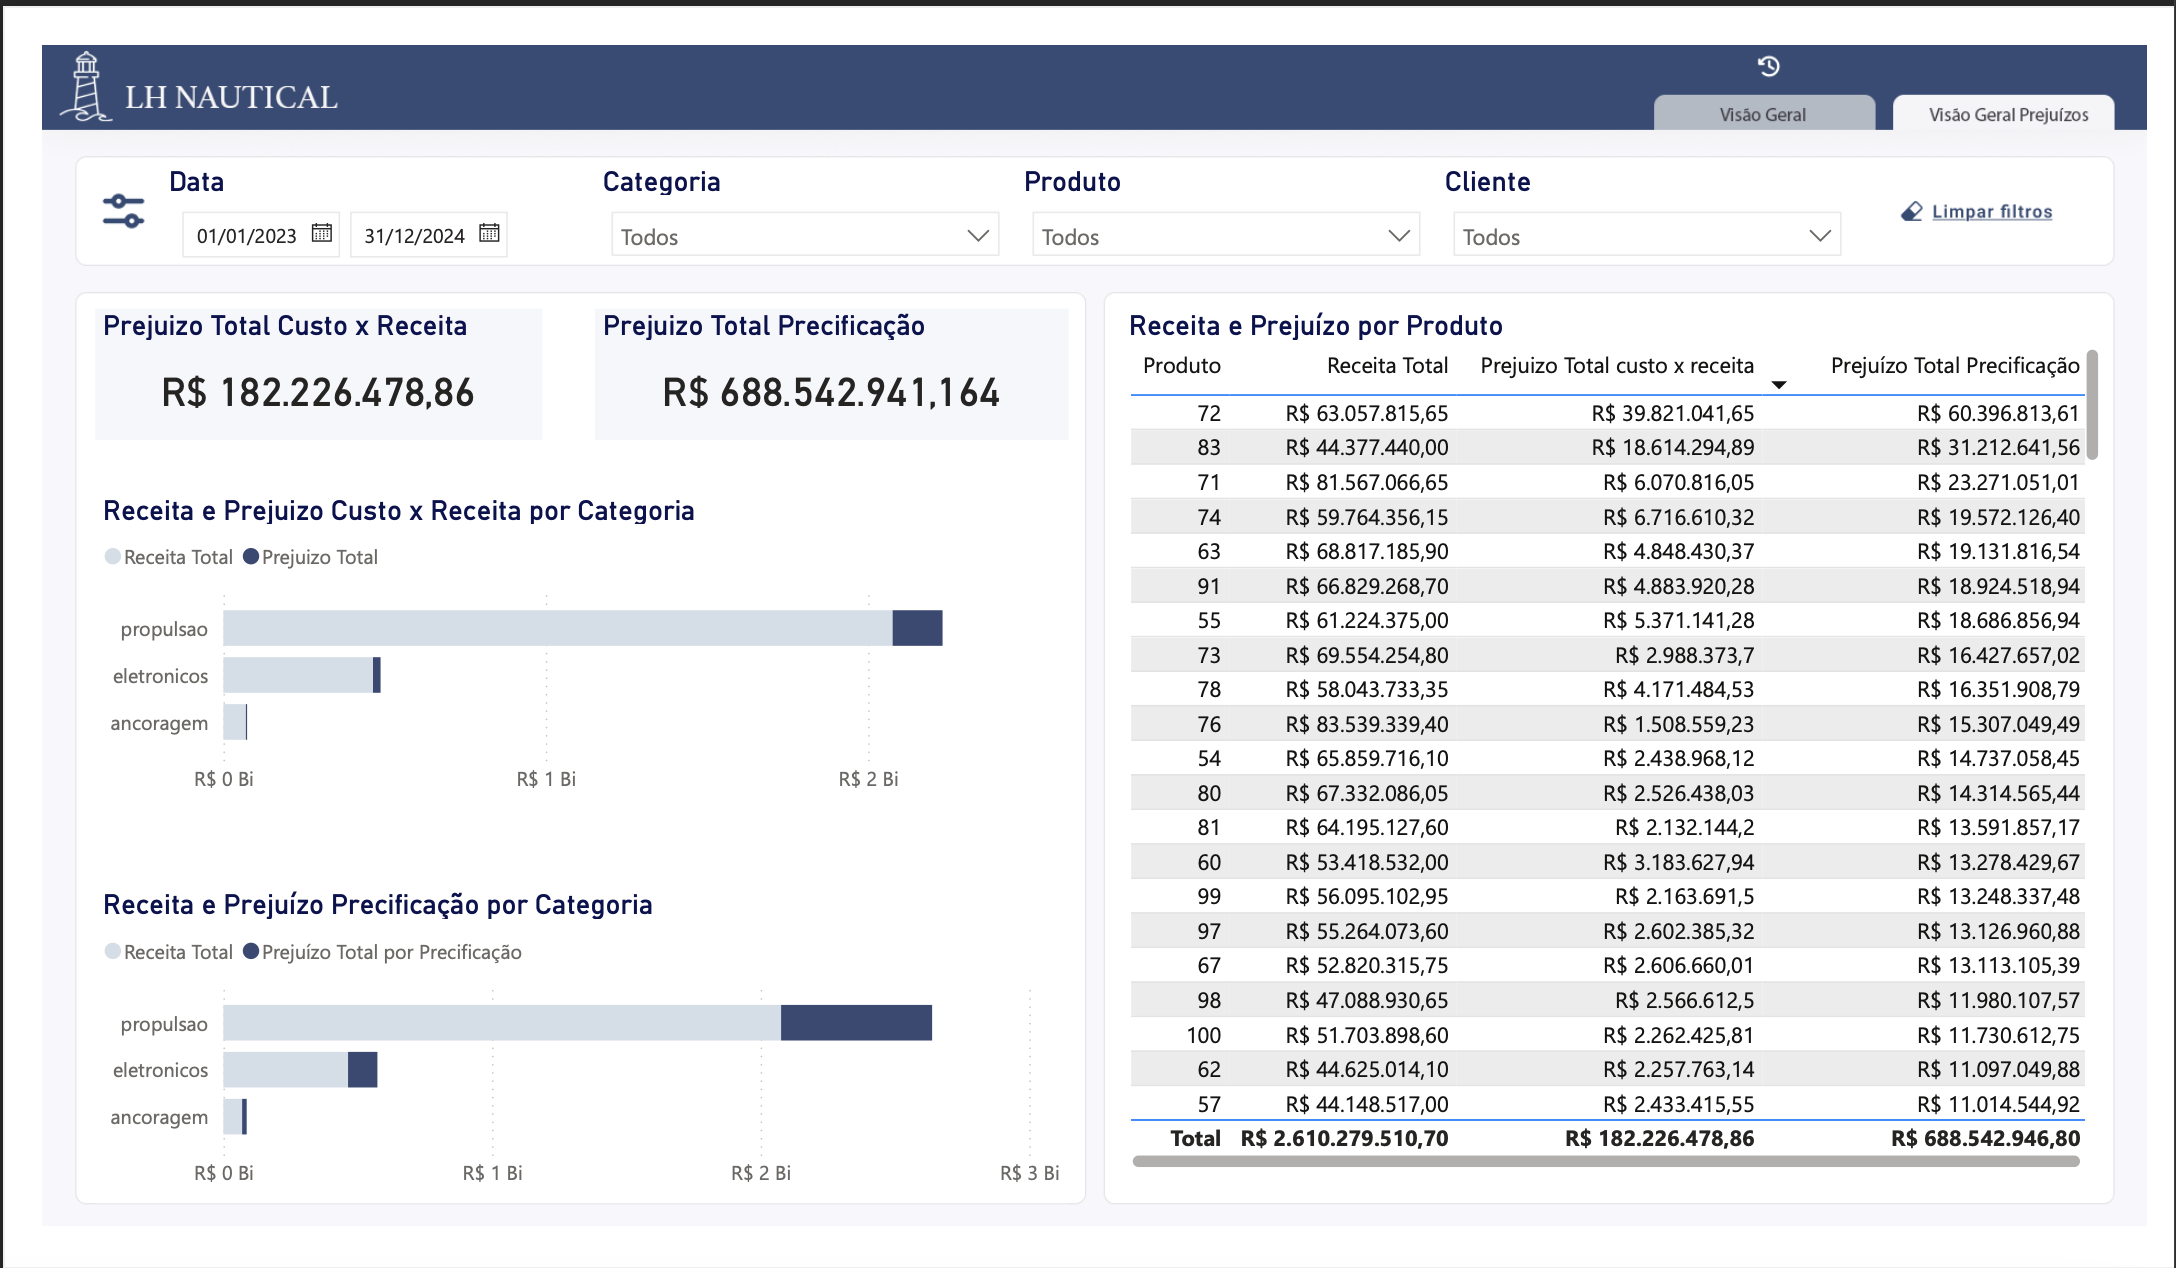

Layout of this report page (visuals, bound fields, positions):
{"tool":"powerbi","page":{"name":"Visão Geral Prejuizos ","canvas":[1280,720],"ordinal":1},"visuals":[{"type":"actionButton","box":[992,32,112,16],"z":0},{"type":"tableEx","title":"Receita e Prejuízo por Produto","fields":{"Values":["dim_produto.product_id","Medidas.Receita Total","Medidas.Prejuizo Total","Sum(fct_prejuizo_produto_correto.prejuizo_total_precificacao_brl)"]},"box":[656,160,600,528],"z":1000},{"type":"barChart","title":"Receita e Prejuizo Custo x Receita por Categoria","fields":{"Category":["dim_produto.category"],"Y":["Medidas.lh_receita_total","Medidas.lh_prejuizo_total"]},"box":[32,272,592,192],"z":2000},{"type":"barChart","title":"Receita e Prejuízo Precificação por Categoria","fields":{"Category":["dim_produto.category"],"Y":["Medidas.lh_receita_total","Sum(fct_prejuizo_produto_correto.prejuizo_total_precificacao_brl)"]},"box":[32,512,592,192],"z":3000},{"type":"card","title":"Prejuizo Total Custo x Receita","fields":{"Values":["Medidas.Prejuizo Total"]},"box":[32,160,272,80],"z":4000},{"type":"card","title":"Prejuizo Total Precificação","fields":{"Values":["Medidas.lh_prejuizo_precificacao_20"]},"box":[336,160,288,80],"z":5000},{"type":"slicer","title":"Data","fields":{"Values":["dim_data(2).data_dia"]},"box":[72,72,256,60],"z":6000},{"type":"slicer","title":"Categoria","fields":{"Values":["dim_produto.category"]},"box":[336,72,256,60],"z":7000},{"type":"slicer","title":"Produto","fields":{"Values":["dim_produto.product_id"]},"box":[592,72,256,60],"z":8000},{"type":"slicer","title":"Cliente","fields":{"Values":["dim_clientes (2).customer_id"]},"box":[848,72,256,60],"z":9000},{"type":"actionButton","box":[1120,64,128,64],"z":10000}]}

Visuals, with their boxes on the page's 1280x720 design canvas (x1, y1, x2, y2). These are canvas units, not pixel positions in the 2176x1268 screenshot, which may show the page scaled, cropped or inside an application window:
actionButton: BBox(992, 32, 1104, 48)
"Receita e Prejuízo por Produto" tableEx: BBox(656, 160, 1256, 688)
"Receita e Prejuizo Custo x Receita por Categoria" barChart: BBox(32, 272, 624, 464)
"Receita e Prejuízo Precificação por Categoria" barChart: BBox(32, 512, 624, 704)
"Prejuizo Total Custo x Receita" card: BBox(32, 160, 304, 240)
"Prejuizo Total Precificação" card: BBox(336, 160, 624, 240)
"Data" slicer: BBox(72, 72, 328, 132)
"Categoria" slicer: BBox(336, 72, 592, 132)
"Produto" slicer: BBox(592, 72, 848, 132)
"Cliente" slicer: BBox(848, 72, 1104, 132)
actionButton: BBox(1120, 64, 1248, 128)
